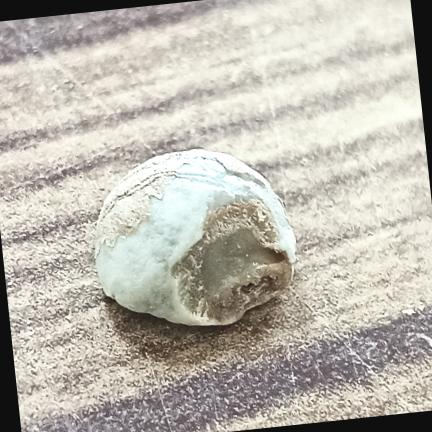broken: (95, 149, 296, 325)
